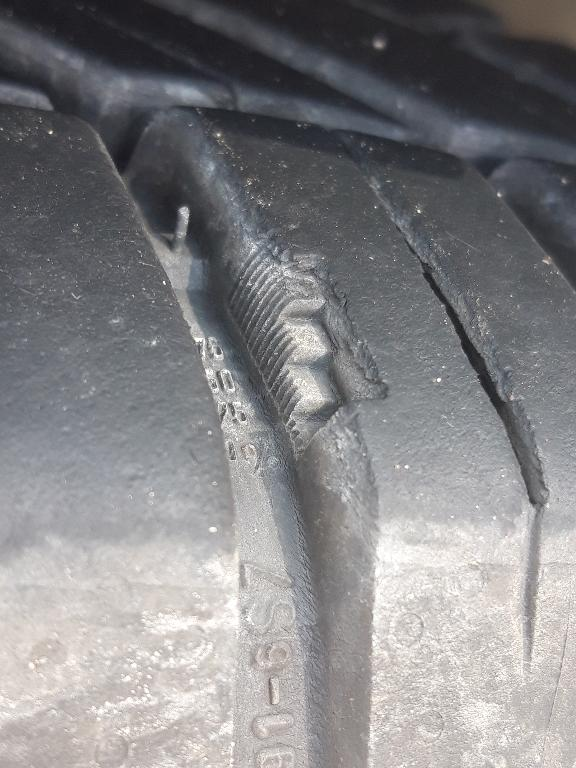temoin:90: (216, 223, 408, 478)
